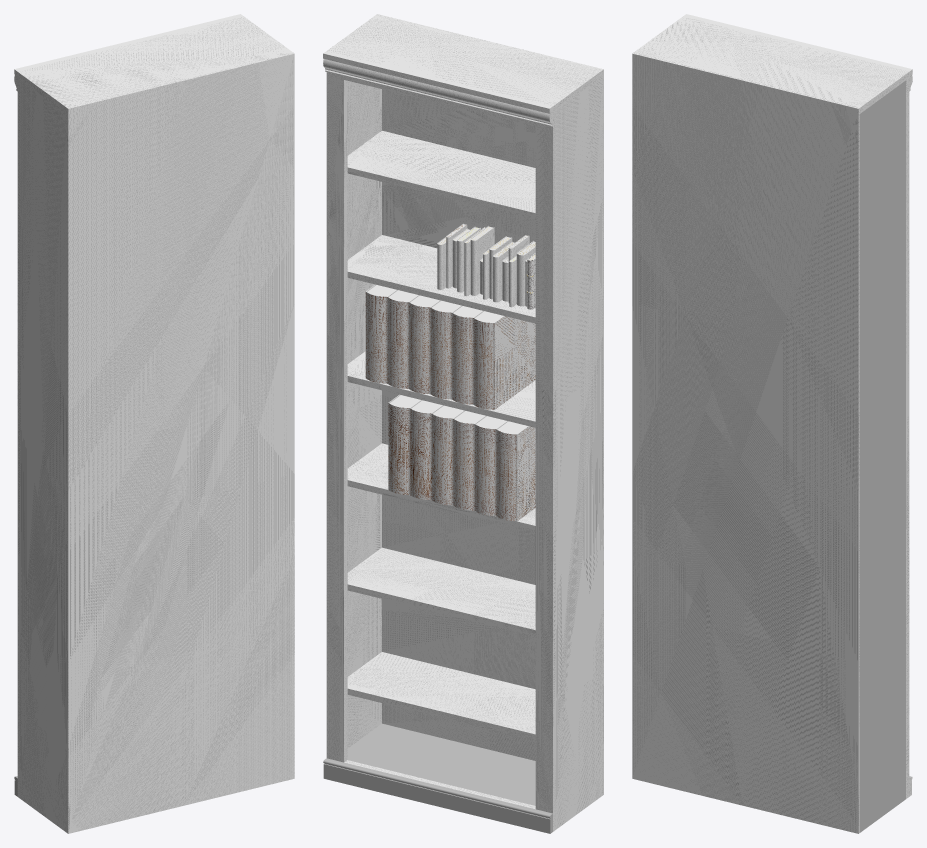
3 renders of one model, left to right at view 1: azimuth 30°, elevation 25°; view 2: azimuth 150°, elevation 25°; view 3: azimuth 330°, elevation 25°, orthographic.
Visible parts, largest first — view 1: mesh35_mesh35-geometry; view 2: mesh35_mesh35-geometry, mesh1_mesh1-geometry, mesh8_mesh8-geometry; view 3: mesh35_mesh35-geometry.
Boxes of the visible parts, x1,y1,x2,y2 form: mesh35_mesh35-geometry: (14, 14, 294, 833); mesh35_mesh35-geometry: (323, 14, 603, 833); mesh1_mesh1-geometry: (365, 284, 535, 521); mesh8_mesh8-geometry: (437, 223, 535, 309); mesh35_mesh35-geometry: (632, 14, 912, 833).
Bounding box in the file's own units: 0.3081 × 0.9428 × 0.1275.
